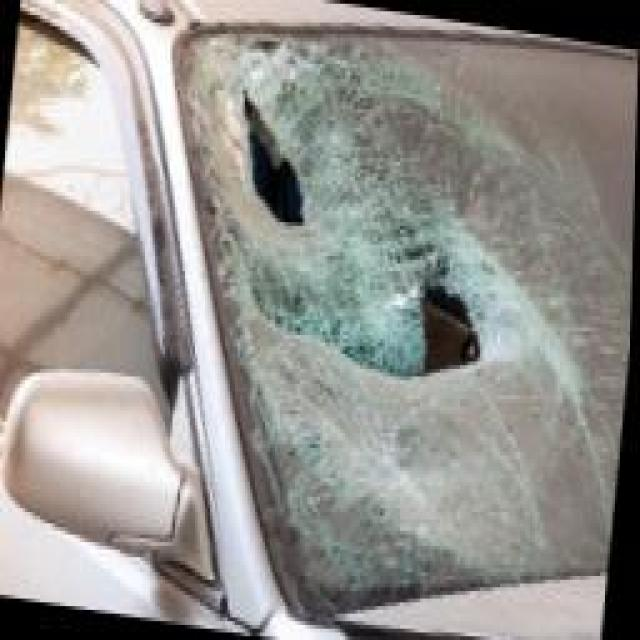Windshield: (195, 53, 630, 591)
